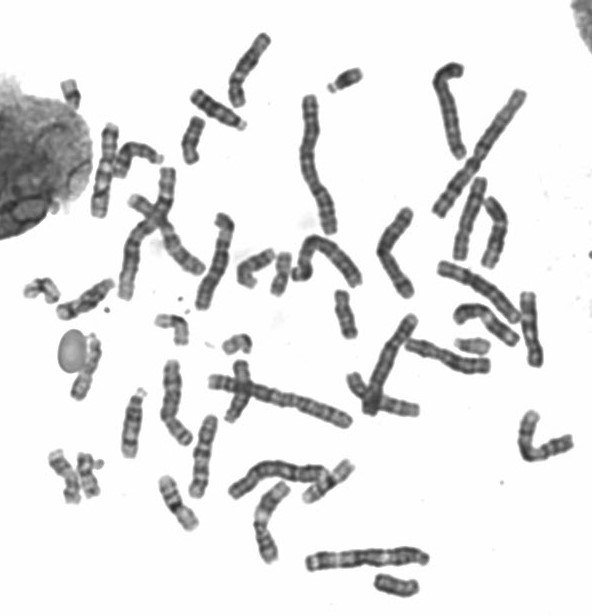chromosomes: (428, 85, 537, 224), (112, 164, 181, 306), (203, 372, 358, 435), (126, 187, 209, 282), (293, 88, 342, 240), (358, 309, 423, 420), (434, 255, 525, 324), (223, 458, 336, 507), (193, 208, 242, 317), (371, 200, 418, 304), (341, 367, 426, 424), (285, 232, 367, 291), (301, 540, 438, 575), (428, 55, 471, 165), (84, 119, 129, 224), (224, 25, 277, 113), (512, 403, 581, 470), (448, 171, 494, 266), (447, 299, 525, 352), (250, 478, 295, 569), (186, 410, 229, 504), (157, 354, 198, 452), (402, 335, 498, 375), (51, 272, 120, 326), (475, 192, 516, 275), (186, 84, 250, 136), (156, 471, 205, 535), (299, 457, 358, 509), (67, 337, 112, 404), (115, 384, 152, 464), (517, 284, 549, 375), (111, 136, 168, 183), (43, 445, 84, 510), (221, 356, 254, 428), (233, 243, 278, 293), (367, 568, 426, 602), (149, 307, 194, 351), (329, 288, 363, 345), (177, 113, 210, 171), (74, 449, 107, 503), (19, 271, 66, 306), (324, 62, 369, 98), (265, 248, 296, 299), (57, 76, 89, 117), (216, 330, 258, 359), (449, 334, 494, 359)
